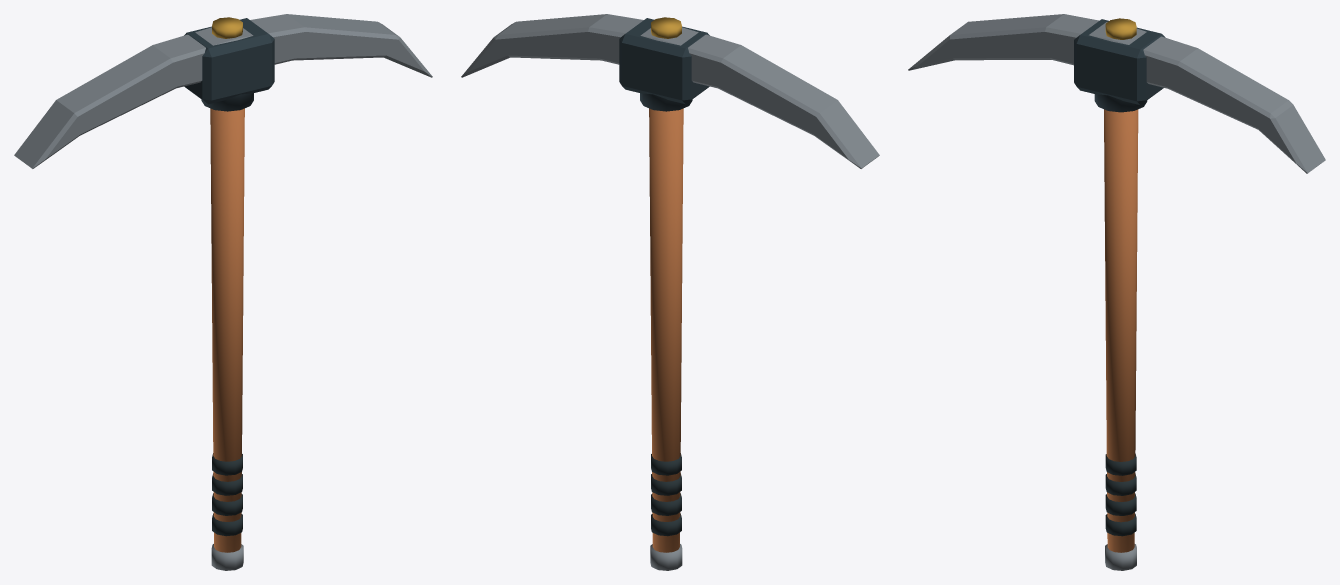
The model's file is Pickaxe.glb.
3 renders of one model, left to right at view 1: azimuth 30°, elevation 25°; view 2: azimuth 150°, elevation 25°; view 3: azimuth 330°, elevation 25°, orthographic.
Parts seen in each view (by area): view 1: Pickaxe; view 2: Pickaxe; view 3: Pickaxe.
Part boxes in pixels (box(x1,y1,x2,y2)): Pickaxe: box(14, 14, 432, 570); Pickaxe: box(461, 14, 879, 570); Pickaxe: box(908, 14, 1325, 570).
Size of the model in its own units: 0.7893 by 1.02 by 0.098.
